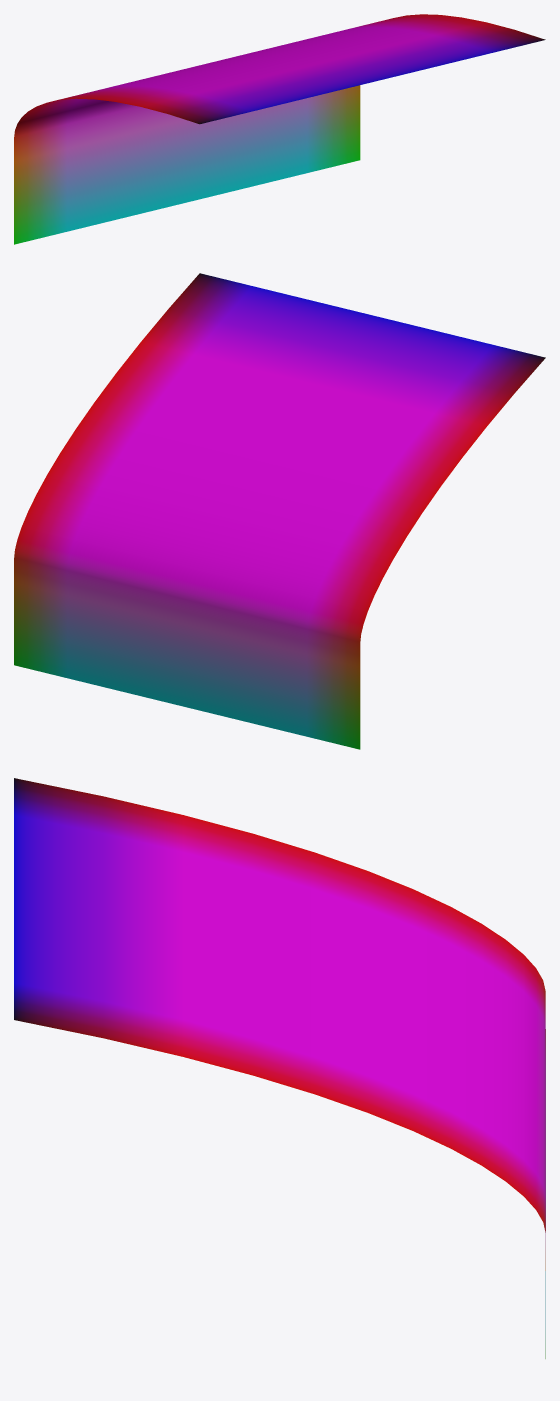
Rendered from SM_VFX_Waterfall_01.fbx.
The picture shows the model from 3 angles, top to bottom: view 1: azimuth 30°, elevation 25°; view 2: azimuth 150°, elevation 25°; view 3: azimuth 270°, elevation 25°; orthographic projection. The views are drawn at different scales.
Visible parts, largest first — view 1: SM_VFX_Waterfall_01; view 2: SM_VFX_Waterfall_01; view 3: SM_VFX_Waterfall_01.
Boxes of the visible parts, x1,y1,x2,y2 form: SM_VFX_Waterfall_01: (14, 14, 545, 244); SM_VFX_Waterfall_01: (14, 273, 545, 749); SM_VFX_Waterfall_01: (14, 778, 545, 1358).
Bounding box in the file's own units: 100 × 70.71 × 92.91.
